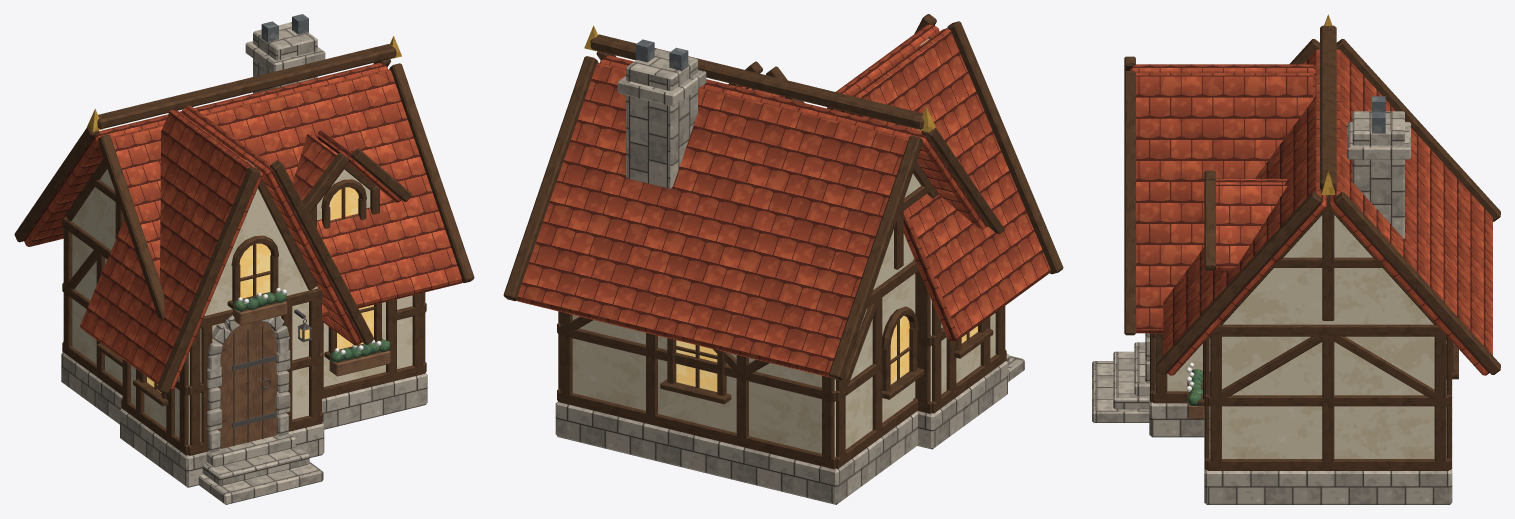
Rendered from village_cottage.glb.
The picture shows the model from 3 angles, left to right: view 1: azimuth 30°, elevation 25°; view 2: azimuth 150°, elevation 25°; view 3: azimuth 270°, elevation 25°; orthographic projection. The views are drawn at different scales.
Parts seen in each view (by area): view 1: village_cottage_roof, village_cottage_walls, village_cottage_door_leaf; view 2: village_cottage_roof, village_cottage_walls; view 3: village_cottage_roof, village_cottage_walls.
Boxes of the visible parts, box(x1,y1,x2,y2) form: village_cottage_roof: box(14, 36, 474, 393); village_cottage_walls: box(61, 14, 427, 504); village_cottage_door_leaf: box(218, 321, 276, 448); village_cottage_roof: box(503, 14, 1063, 380); village_cottage_walls: box(555, 36, 1024, 504); village_cottage_roof: box(1124, 14, 1500, 375); village_cottage_walls: box(1092, 72, 1458, 504).
Size of what is drawn, in the model's own units: 4.91 by 4.79 by 4.85.
Materials: 14 (14 with a texture image).
